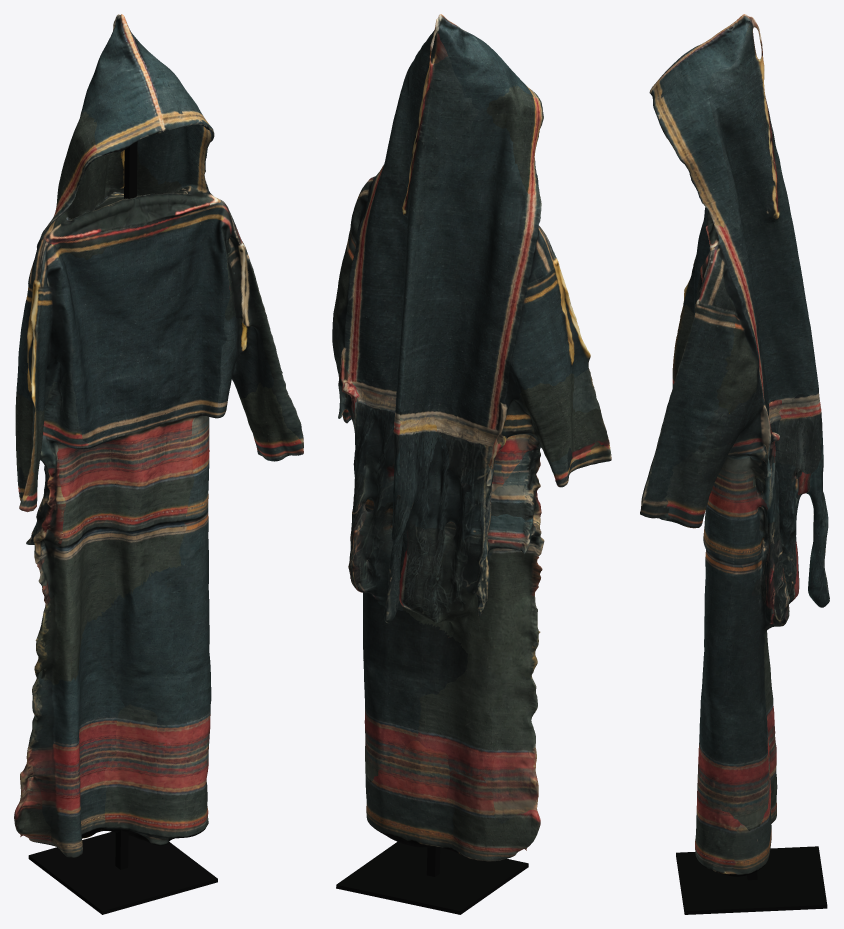
The model's file is Nu_Ede.fbx.
3 renders of one model, left to right at view 1: azimuth 30°, elevation 25°; view 2: azimuth 150°, elevation 25°; view 3: azimuth 270°, elevation 25°, orthographic.
Parts seen in each view (by area): view 1: model_2; view 2: model_2; view 3: model_2.
Boxes of the visible parts, bbox=[...] form: model_2: bbox=[14, 14, 303, 914]; model_2: bbox=[332, 14, 611, 914]; model_2: bbox=[640, 14, 829, 914].
Bounding box in the file's own units: 661 × 2032 × 403.
Materials: 1 (1 with a texture image).
